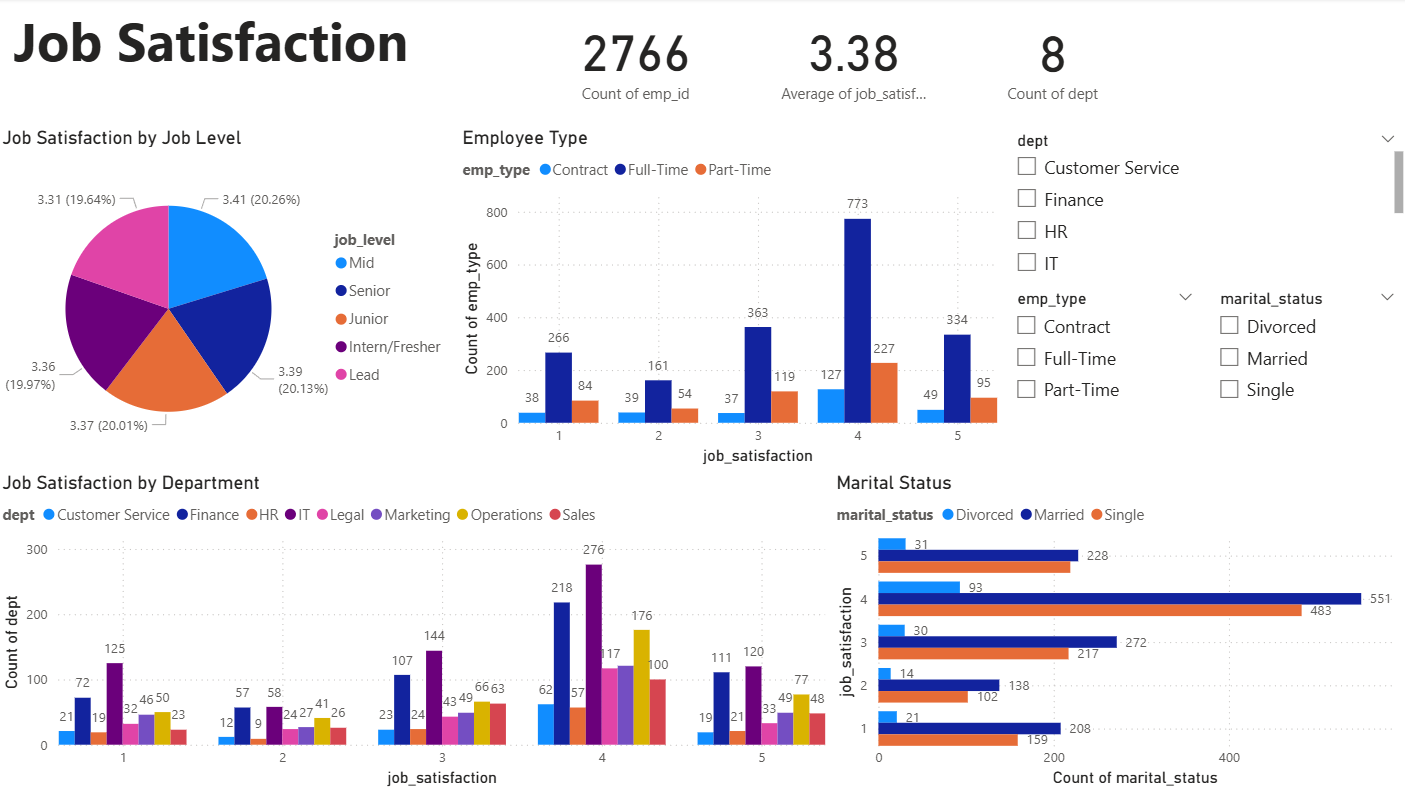

The page's visual inventory and layout, read from the dashboard file:
{"tool":"powerbi","page":{"name":"Page 1","canvas":[1280,720],"ordinal":0},"visuals":[{"type":"textbox","box":[10,0,408,80.8],"z":0},{"type":"card","fields":{"Values":["Count(assignment_employee_survey.emp_id)"]},"box":[507.6,0,142.9,106.9],"z":1},{"type":"card","fields":{"Values":["Avg(assignment_employee_survey.job_satisfaction)"]},"box":[705,0,142.9,106.9],"z":2},{"type":"card","fields":{"Values":["Count(assignment_employee_survey.dept)"]},"box":[886.2,0,142.9,108],"z":3},{"type":"clusteredColumnChart","title":"Job Satisfaction by Department","fields":{"Category":["assignment_employee_survey.job_satisfaction"],"Y":["CountNonNull(assignment_employee_survey.dept)"],"Series":["assignment_employee_survey.dept"]},"box":[0,428.6,756.2,291.5],"z":4},{"type":"pieChart","title":"Job Satisfaction by Job Level","fields":{"Category":["assignment_employee_survey.job_level"],"Y":["Avg(assignment_employee_survey.job_satisfaction)"]},"box":[0,116.2,417,312.5],"z":5},{"type":"clusteredBarChart","title":"Marital Status","fields":{"Category":["assignment_employee_survey.job_satisfaction"],"Y":["CountNonNull(assignment_employee_survey.marital_status)"],"Series":["assignment_employee_survey.marital_status"]},"box":[756.2,428.6,523.8,291.5],"z":6},{"type":"clusteredColumnChart","title":"Employee Type","fields":{"Category":["assignment_employee_survey.job_satisfaction"],"Y":["CountNonNull(assignment_employee_survey.emp_type)"],"Series":["assignment_employee_survey.emp_type"]},"box":[417,116.2,494.8,312.5],"z":7},{"type":"slicer","fields":{"Values":["assignment_employee_survey.dept"]},"box":[911.8,116.2,368.2,142.9],"z":8},{"type":"slicer","fields":{"Values":["assignment_employee_survey.emp_type"]},"box":[911.8,259,184.7,169.6],"z":9},{"type":"slicer","fields":{"Values":["assignment_employee_survey.marital_status"]},"box":[1096.5,259,183.5,169.6],"z":10}]}

Visuals, with their boxes in screenshot pixels (x1, y1, x2, y2), scaled from the page's 1280x720 canvas onto the 1405x789 screenshot:
textbox: 11 0 459 89
card - Count(assignment_employee_survey.emp_id): 557 0 714 117
card - Avg(assignment_employee_survey.job_satisfaction): 774 0 931 117
card - Count(assignment_employee_survey.dept): 973 0 1130 118
"Job Satisfaction by Department" clusteredColumnChart: 0 470 830 788
"Job Satisfaction by Job Level" pieChart: 0 127 458 470
"Marital Status" clusteredBarChart: 830 470 1404 788
"Employee Type" clusteredColumnChart: 458 127 1001 470
slicer - assignment_employee_survey.dept: 1001 127 1404 284
slicer - assignment_employee_survey.emp_type: 1001 284 1204 470
slicer - assignment_employee_survey.marital_status: 1204 284 1404 470
